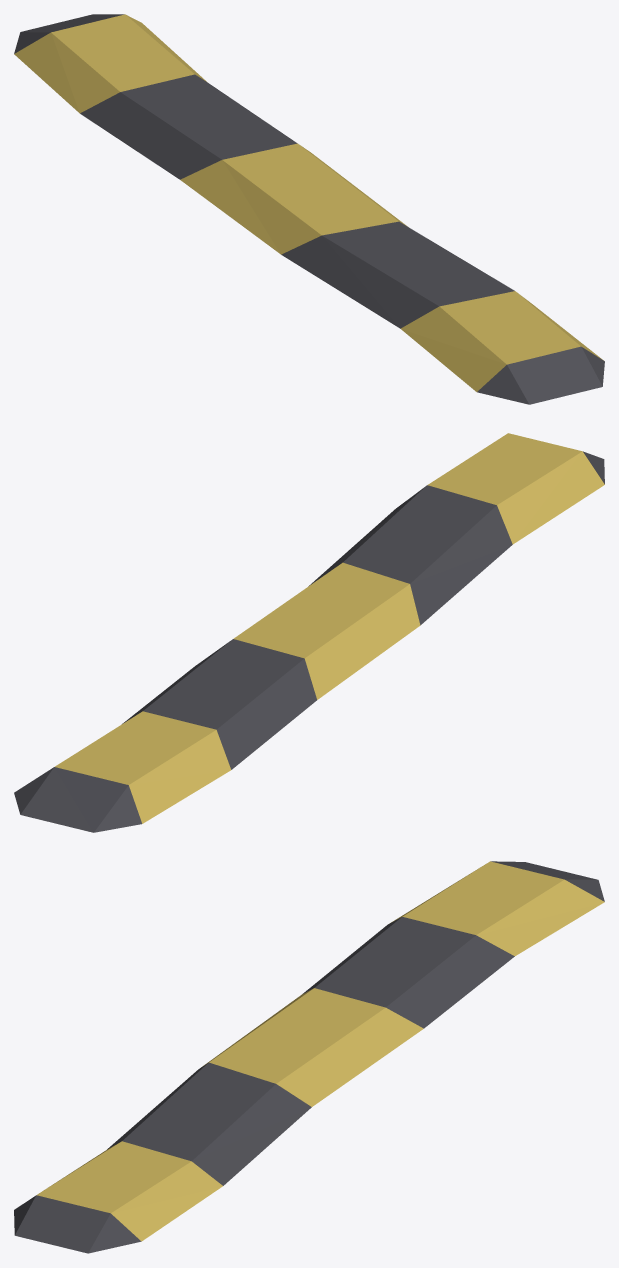
Rendered from speed_bump.fbx.
The picture shows the model from 3 angles, top to bottom: view 1: azimuth 30°, elevation 25°; view 2: azimuth 150°, elevation 25°; view 3: azimuth 330°, elevation 25°; orthographic projection.
Parts seen in each view (by area): view 1: speed_bump; view 2: speed_bump; view 3: speed_bump.
Boxes of the visible parts, x1,y1,x2,y2 form: speed_bump: [14, 14, 604, 404]; speed_bump: [14, 433, 604, 832]; speed_bump: [14, 861, 604, 1253].
Size of the model in its own units: 156 by 24.97 by 956.
